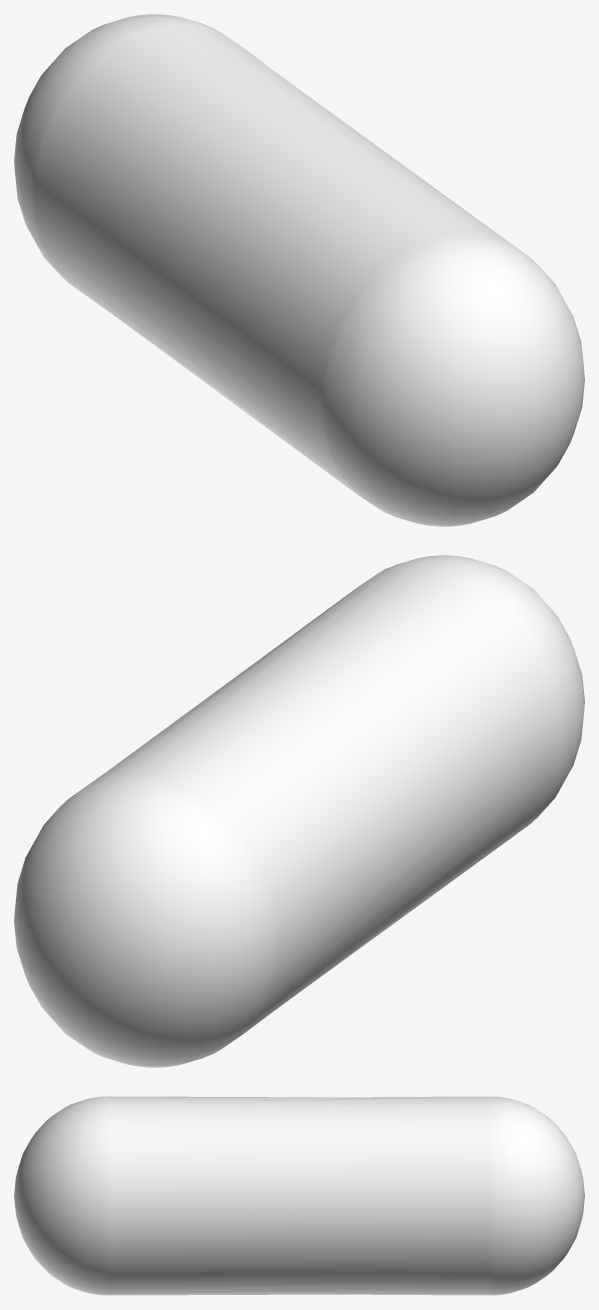
The model's file is cejauno_Muffin.obj.
3 views of the same model, one above another, from view 1: azimuth 30°, elevation 25°; view 2: azimuth 150°, elevation 25°; view 3: azimuth 270°, elevation 25° (orthographic). The views are drawn at different scales.
Parts seen in each view (by area): view 1: Object001; view 2: Object001; view 3: Object001.
Boxes of the visible parts, box(x1,y1,x2,y2) form: Object001: box(14, 14, 584, 526); Object001: box(14, 555, 584, 1067); Object001: box(14, 1096, 584, 1295).
Bounding box in the file's own units: 3 × 3.24 × 9.17.
